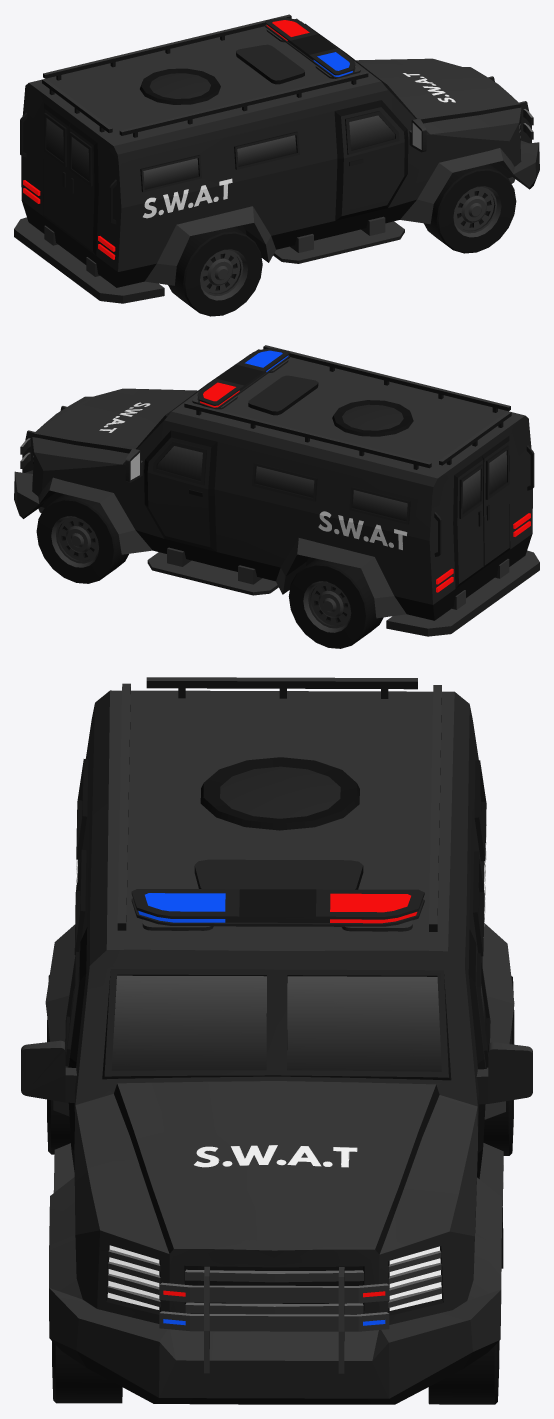
File: Emergency_009.glb
3 views of the same model, one above another, from view 1: azimuth 30°, elevation 25°; view 2: azimuth 150°, elevation 25°; view 3: azimuth 270°, elevation 25° (orthographic). The views are drawn at different scales.
Visible parts, largest first — view 1: Emergency_009, wheel_3_Emergency_009_Wheel_2R, wheel_1_Emergency_009_Wheel_1R; view 2: Emergency_009, wheel_2_Emergency_009_Wheel_2L, wheel_0_Emergency_009_Wheel_1L; view 3: Emergency_009, wheel_0_Emergency_009_Wheel_1L, wheel_1_Emergency_009_Wheel_1R, wheel_2_Emergency_009_Wheel_2L, wheel_3_Emergency_009_Wheel_2R.
Part boxes in pixels (left/top/right/bottom): Emergency_009: left=14, top=14, right=539, bottom=303; wheel_3_Emergency_009_Wheel_2R: left=168, top=227, right=262, bottom=316; wheel_1_Emergency_009_Wheel_1R: left=424, top=164, right=516, bottom=253; Emergency_009: left=14, top=345, right=539, bottom=636; wheel_2_Emergency_009_Wheel_2L: left=288, top=558, right=383, bottom=648; wheel_0_Emergency_009_Wheel_1L: left=36, top=494, right=128, bottom=583; Emergency_009: left=21, top=677, right=532, bottom=1404; wheel_0_Emergency_009_Wheel_1L: left=428, top=1341, right=499, bottom=1404; wheel_1_Emergency_009_Wheel_1R: left=52, top=1341, right=122, bottom=1403; wheel_2_Emergency_009_Wheel_2L: left=483, top=976, right=514, bottom=1155; wheel_3_Emergency_009_Wheel_2R: left=47, top=975, right=70, bottom=1154.
Bounding box in the file's own units: 5.31 × 2.15 × 2.58.
3 materials, 3 textured.
